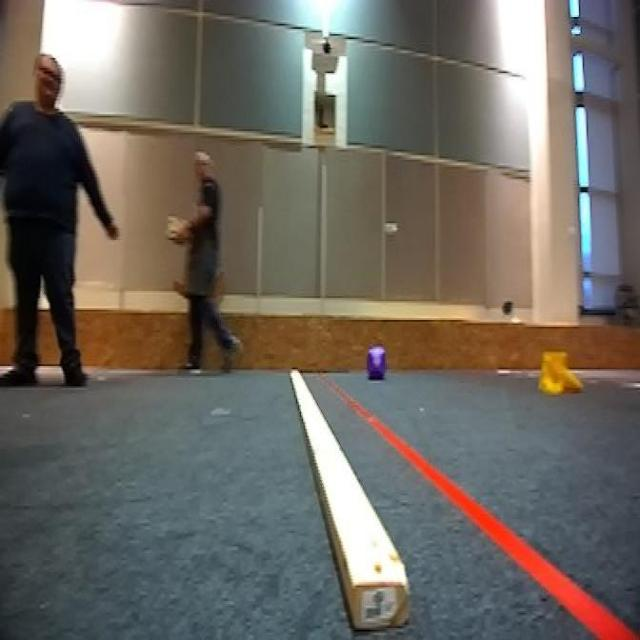frc_cone: (537, 352, 583, 395)
frc_cube: (364, 347, 388, 383)
